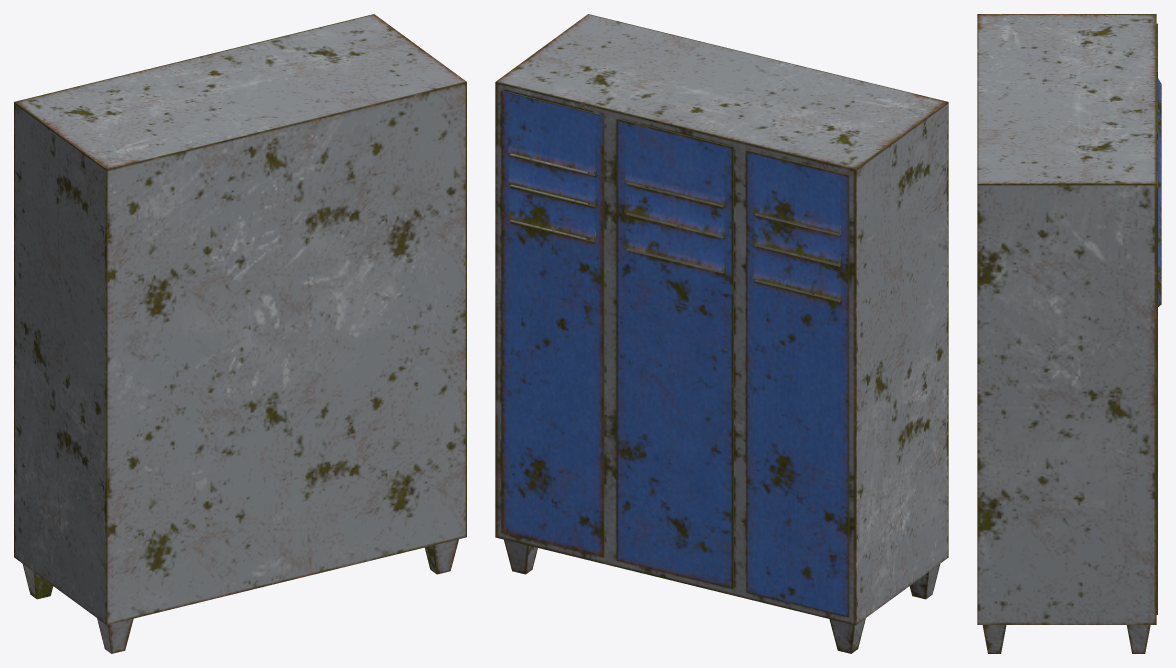
The model's file is hiding_locker.glb.
The picture shows the model from 3 angles, left to right: view 1: azimuth 30°, elevation 25°; view 2: azimuth 150°, elevation 25°; view 3: azimuth 270°, elevation 25°; orthographic projection. The views are drawn at different scales.
Visible parts, largest first — view 1: locker_base_low; view 2: locker_base_low, locker_door_2_low, locker_door_3_low, locker_door_1_low; view 3: locker_base_low, locker_door_1_low, locker_door_2_low, locker_door_3_low.
Part boxes in pixels (left/top/right/bottom): locker_base_low: left=14, top=14, right=466, bottom=653; locker_base_low: left=495, top=14, right=948, bottom=653; locker_door_2_low: left=616, top=118, right=733, bottom=589; locker_door_3_low: left=746, top=150, right=849, bottom=617; locker_door_1_low: left=501, top=90, right=604, bottom=557; locker_base_low: left=977, top=14, right=1156, bottom=653; locker_door_1_low: left=1156, top=139, right=1161, bottom=614; locker_door_2_low: left=1156, top=78, right=1161, bottom=198; locker_door_3_low: left=1156, top=23, right=1161, bottom=138.
Size of the model in its own units: 1.52 by 1.98 by 0.6978.
1 material, 1 textured.
